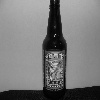beer: (41, 1, 69, 100)
